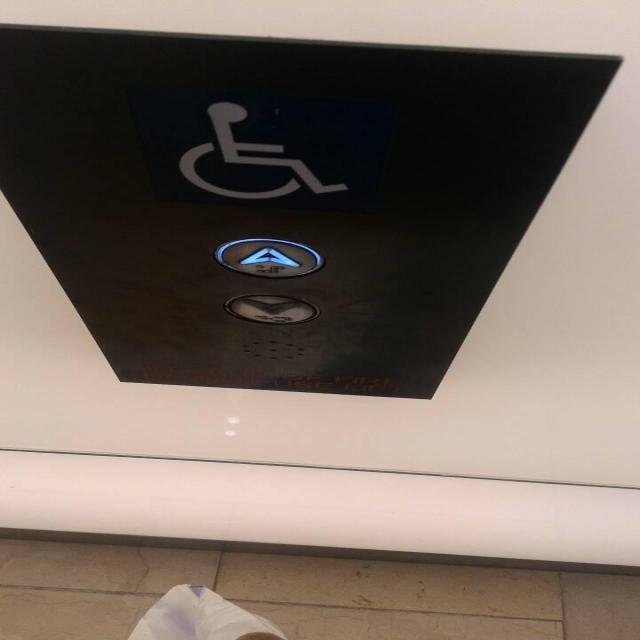CH: (162, 96, 354, 200)
down: (217, 289, 323, 327)
up: (210, 235, 324, 279)
